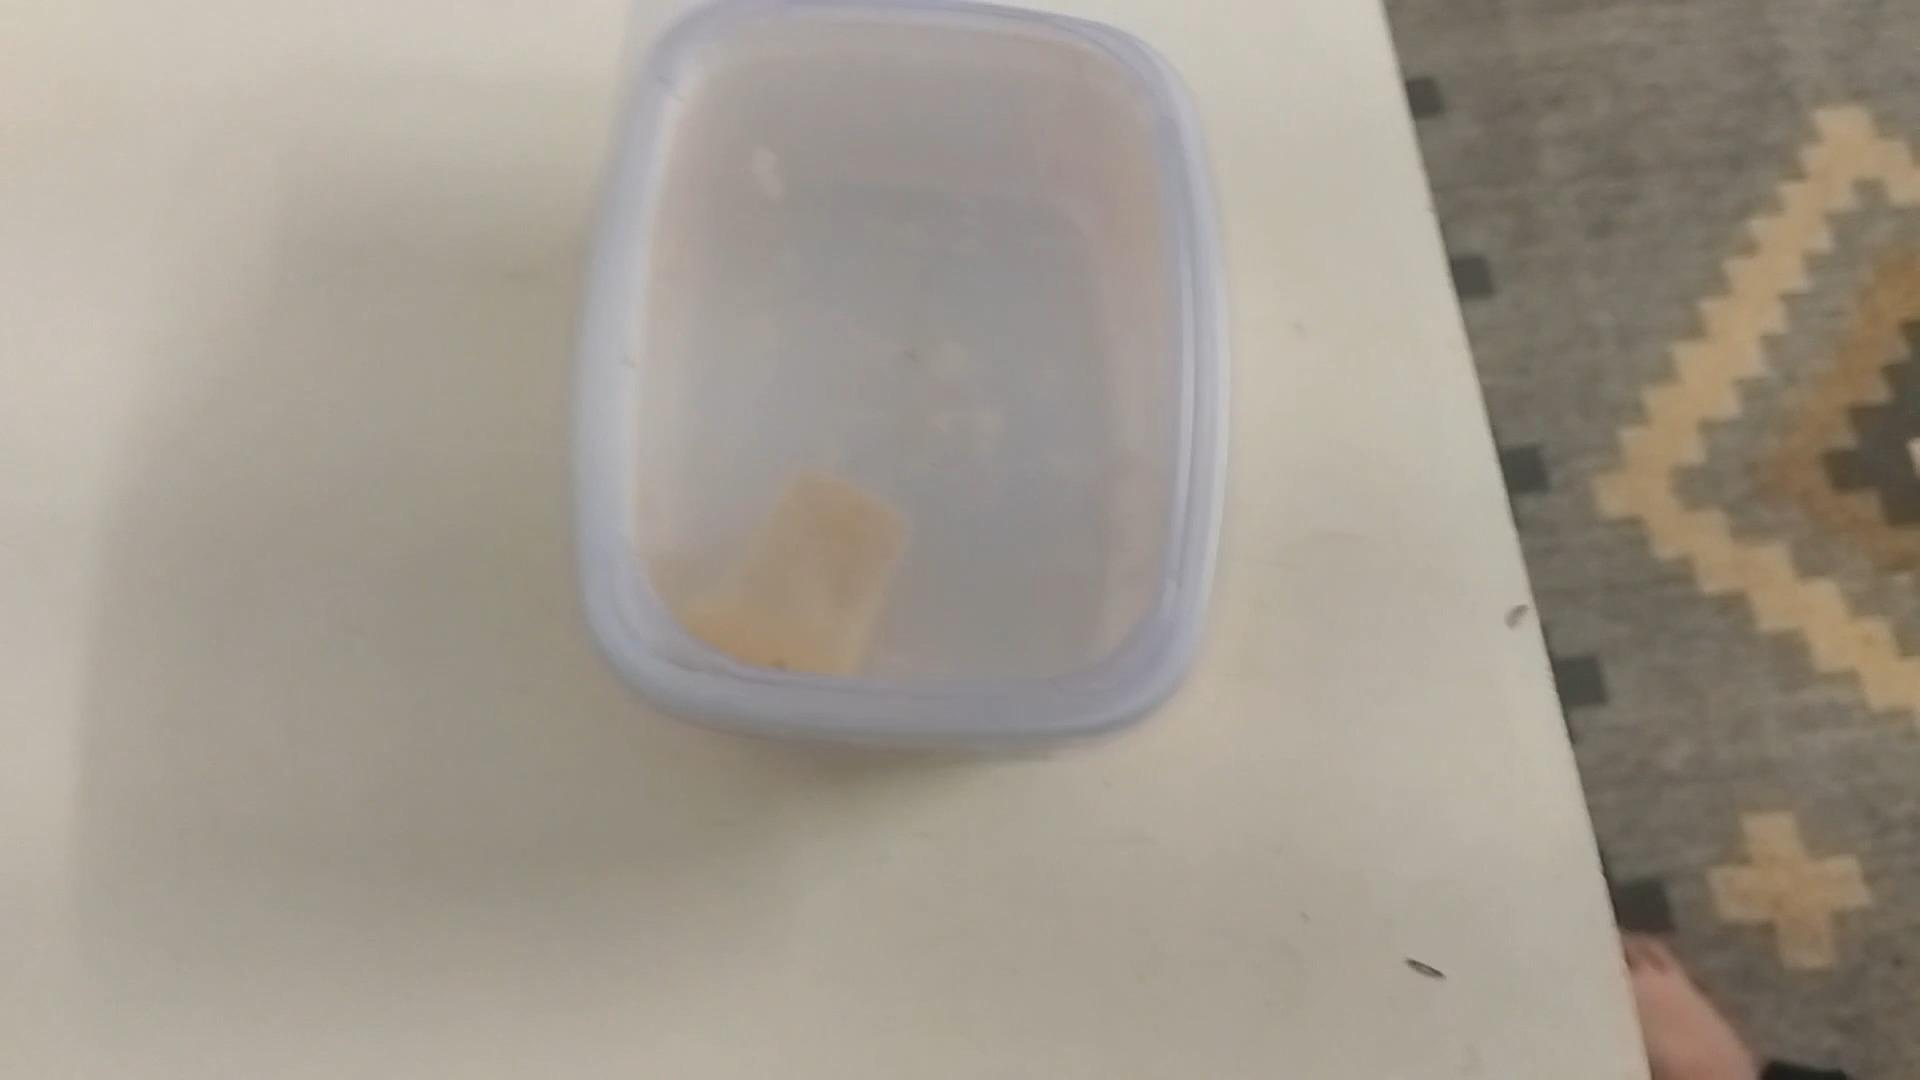butter: (576, 0, 1217, 748)
